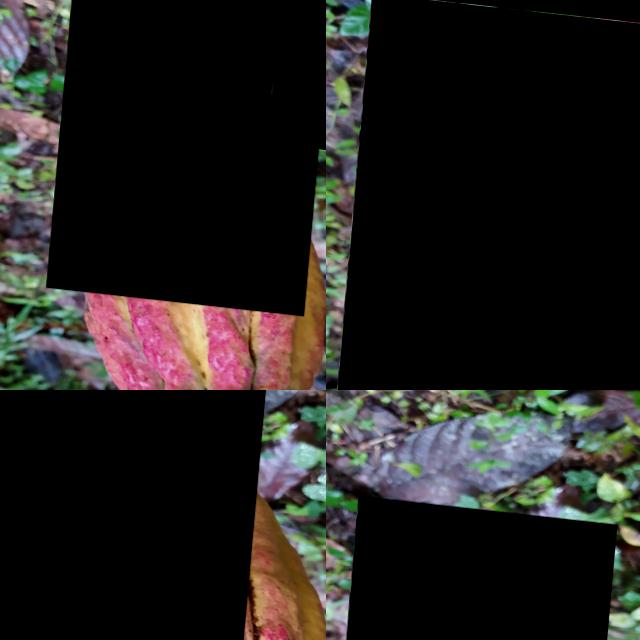Fitoftora: (0, 390, 270, 640)
Monilia: (53, 0, 326, 303)
Sana: (334, 0, 640, 390), (337, 489, 620, 640), (271, 0, 326, 141)
